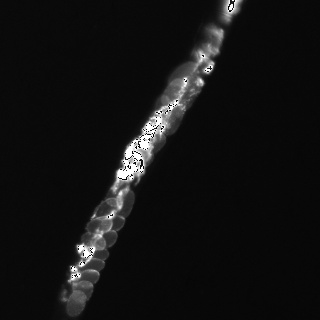embryo: (176, 77, 204, 112), (104, 179, 134, 210), (133, 132, 166, 159), (160, 78, 189, 107), (162, 104, 185, 136), (168, 61, 197, 85), (152, 96, 174, 125), (116, 186, 134, 218), (66, 290, 87, 317), (70, 281, 93, 305), (86, 216, 113, 233), (75, 269, 99, 288), (99, 215, 125, 232), (95, 230, 117, 249), (81, 232, 105, 249), (96, 197, 117, 216), (81, 258, 104, 272), (92, 249, 108, 260)
